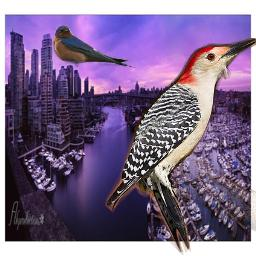Swallow: (52, 25, 136, 68)
Woodpecker: (104, 38, 256, 255)
